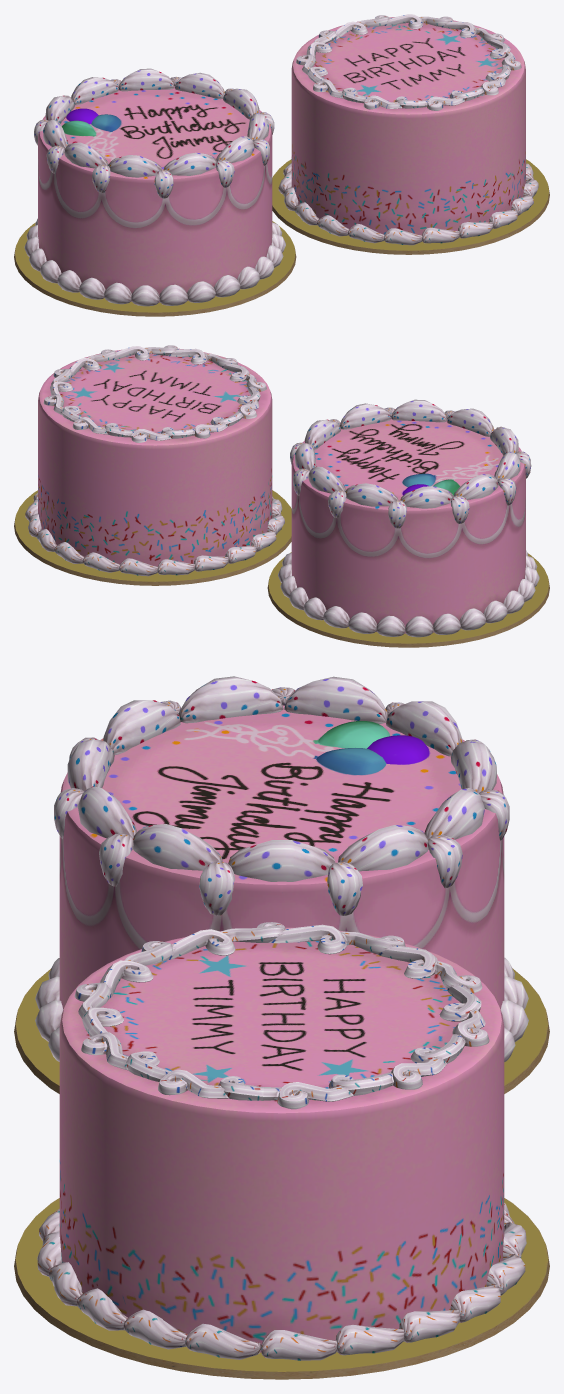
Rendered from fnaf_hw_2_cold_storage_cakes.glb.
3 renders of one model, top to bottom at view 1: azimuth 30°, elevation 25°; view 2: azimuth 150°, elevation 25°; view 3: azimuth 270°, elevation 25°, orthographic. The views are drawn at different scales.
Visible parts, largest first — view 1: SM_Cake_Jimmy.mo_0, SM_Cake_Timmy.mo_1; view 2: SM_Cake_Jimmy.mo_0, SM_Cake_Timmy.mo_1; view 3: SM_Cake_Timmy.mo_1, SM_Cake_Jimmy.mo_0.
Part boxes in pixels (<box>): SM_Cake_Jimmy.mo_0: <box>14,68,296,316</box>; SM_Cake_Timmy.mo_1: <box>272,14,549,254</box>; SM_Cake_Jimmy.mo_0: <box>267,399,549,647</box>; SM_Cake_Timmy.mo_1: <box>14,345,291,585</box>; SM_Cake_Timmy.mo_1: <box>14,922,549,1379</box>; SM_Cake_Jimmy.mo_0: <box>14,676,549,1093</box>.
Bounding box in the file's own units: 0.4911 × 0.1357 × 0.2412.
Materials: 1 (1 with a texture image).
